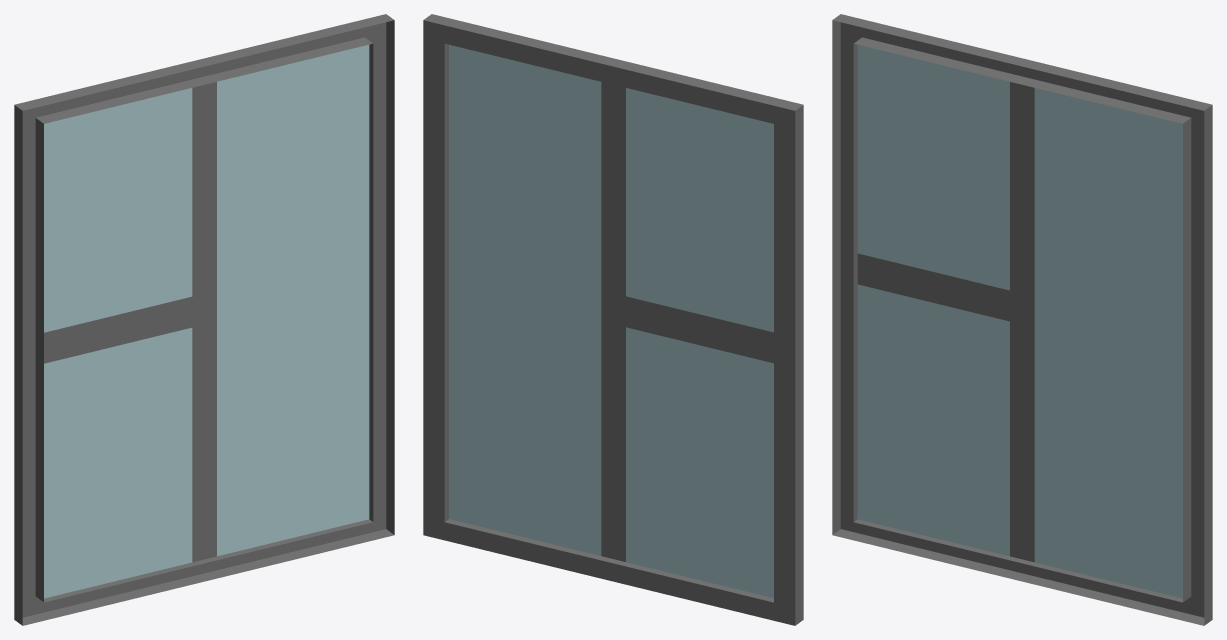
Rendered from New_Flat_window_2.fbx.
3 views of the same model, side by side, from view 1: azimuth 30°, elevation 25°; view 2: azimuth 150°, elevation 25°; view 3: azimuth 330°, elevation 25° (orthographic).
Parts seen in each view (by area): view 1: New_Flat_window_2; view 2: New_Flat_window_2; view 3: New_Flat_window_2.
Boxes of the visible parts, x1,y1,x2,y2 form: New_Flat_window_2: [14, 14, 394, 625]; New_Flat_window_2: [423, 14, 803, 625]; New_Flat_window_2: [832, 14, 1212, 625].
Bounding box in the file's own units: 2.39 × 0.0941 × 3.16.
